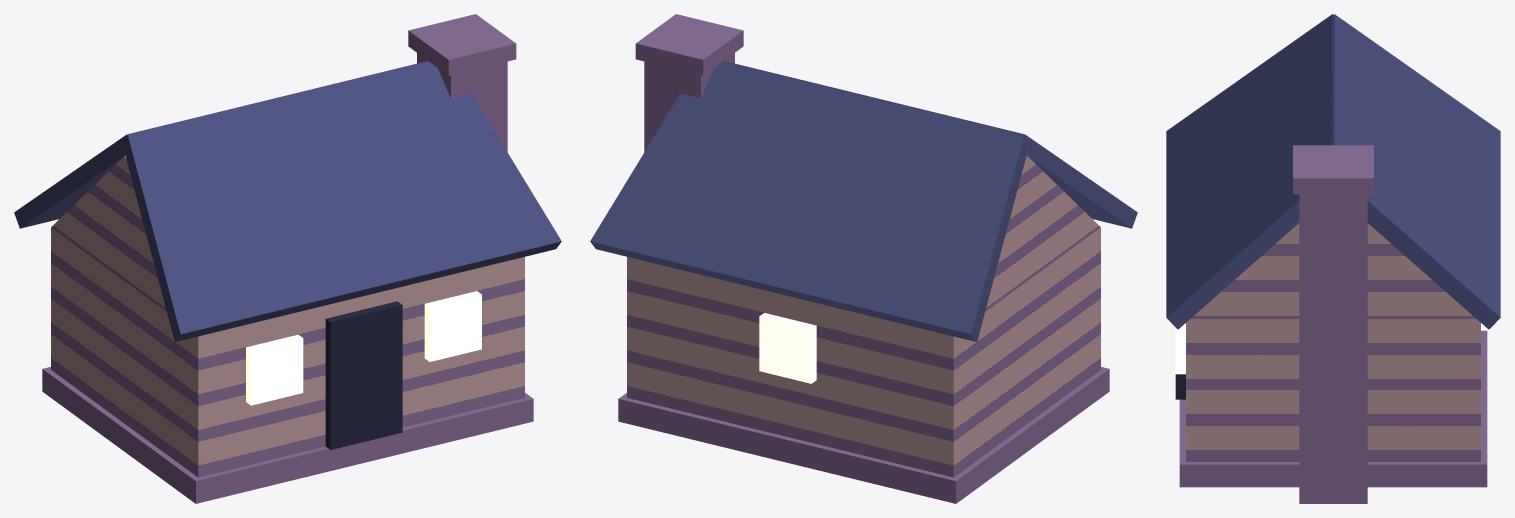
The model's file is cabin.glb.
The picture shows the model from 3 angles, left to right: view 1: azimuth 30°, elevation 25°; view 2: azimuth 150°, elevation 25°; view 3: azimuth 270°, elevation 25°; orthographic projection.
Visible parts, largest first — view 1: RoofF, Walls, Footing, Door, Attic, ChimneyCap, RoofB, WinL, WinR, Chimney; view 2: RoofB, Walls, Footing, Attic, ChimneyCap, RoofF, WinB, Chimney; view 3: Walls, RoofF, RoofB, Chimney, Attic, Footing, ChimneyCap, WinR.
Boxes of the visible parts, left/top/right/bottom form: RoofF: left=125, top=61, right=561, bottom=341; Walls: left=51, top=227, right=524, bottom=477; Footing: left=42, top=367, right=533, bottom=503; Door: left=325, top=301, right=402, bottom=449; Attic: left=51, top=156, right=166, bottom=311; ChimneyCap: left=408, top=14, right=516, bottom=75; RoofB: left=14, top=61, right=428, bottom=228; WinL: left=246, top=334, right=303, bottom=405; WinR: left=424, top=291, right=481, bottom=361; Chimney: left=417, top=53, right=507, bottom=151; RoofB: left=590, top=61, right=1026, bottom=341; Walls: left=627, top=227, right=1100, bottom=477; Footing: left=618, top=367, right=1109, bottom=503; Attic: left=985, top=156, right=1100, bottom=311; ChimneyCap: left=635, top=14, right=743, bottom=75; RoofF: left=723, top=61, right=1137, bottom=228; WinB: left=759, top=313, right=816, bottom=383; Chimney: left=644, top=53, right=734, bottom=151; Walls: left=1186, top=319, right=1480, bottom=461; RoofF: left=1166, top=14, right=1333, bottom=329; RoofB: left=1333, top=14, right=1500, bottom=329; Chimney: left=1299, top=194, right=1367, bottom=503; Attic: left=1191, top=223, right=1475, bottom=318; Footing: left=1179, top=330, right=1487, bottom=487; ChimneyCap: left=1293, top=145, right=1373, bottom=194; WinR: left=1175, top=323, right=1185, bottom=374.
Size of the model in its own units: 3.66 by 2.87 by 2.65.
Materials: 5 (1 with a texture image).
